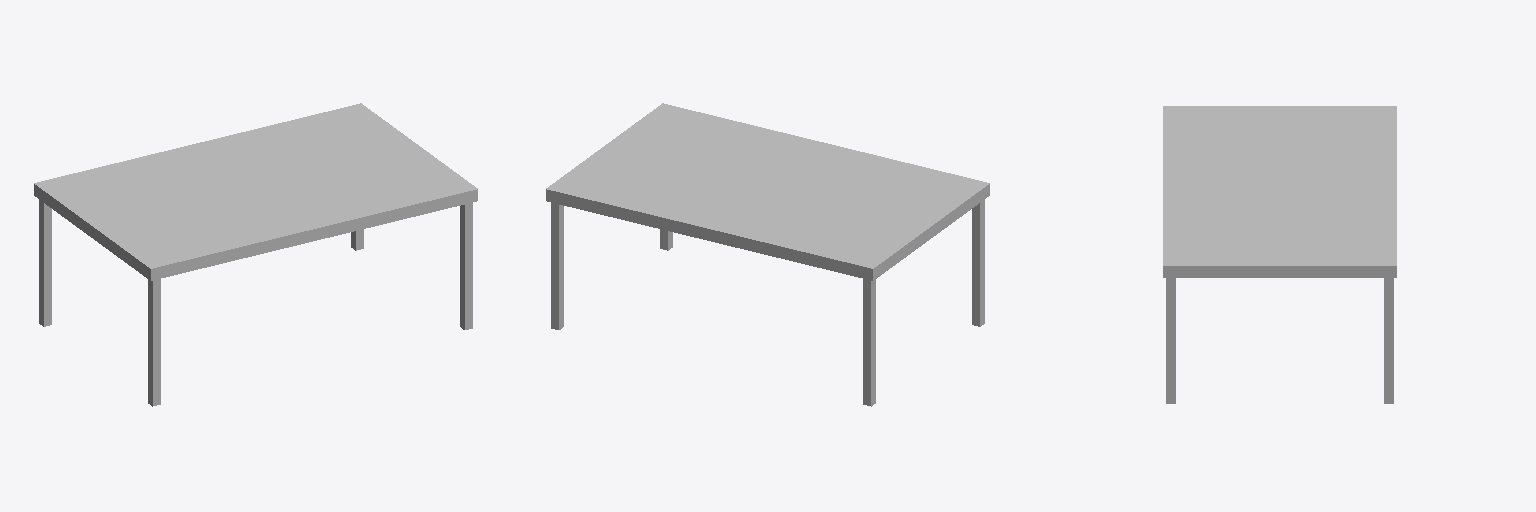
Rendered from table.obj.
3 renders of one model, left to right at view 1: azimuth 30°, elevation 25°; view 2: azimuth 150°, elevation 25°; view 3: azimuth 270°, elevation 25°, orthographic.
Parts seen in each view (by area): view 1: Cube.001, Cube; view 2: Cube.001, Cube; view 3: Cube.001, Cube.
Part boxes in pixels (bbox=[...]): Cube.001: bbox=[34, 103, 477, 280]; Cube: bbox=[39, 200, 472, 406]; Cube.001: bbox=[546, 103, 989, 280]; Cube: bbox=[551, 200, 984, 406]; Cube.001: bbox=[1163, 106, 1396, 277]; Cube: bbox=[1166, 278, 1393, 403].
Size of the model in its own units: 3.23 by 1.32 by 2.